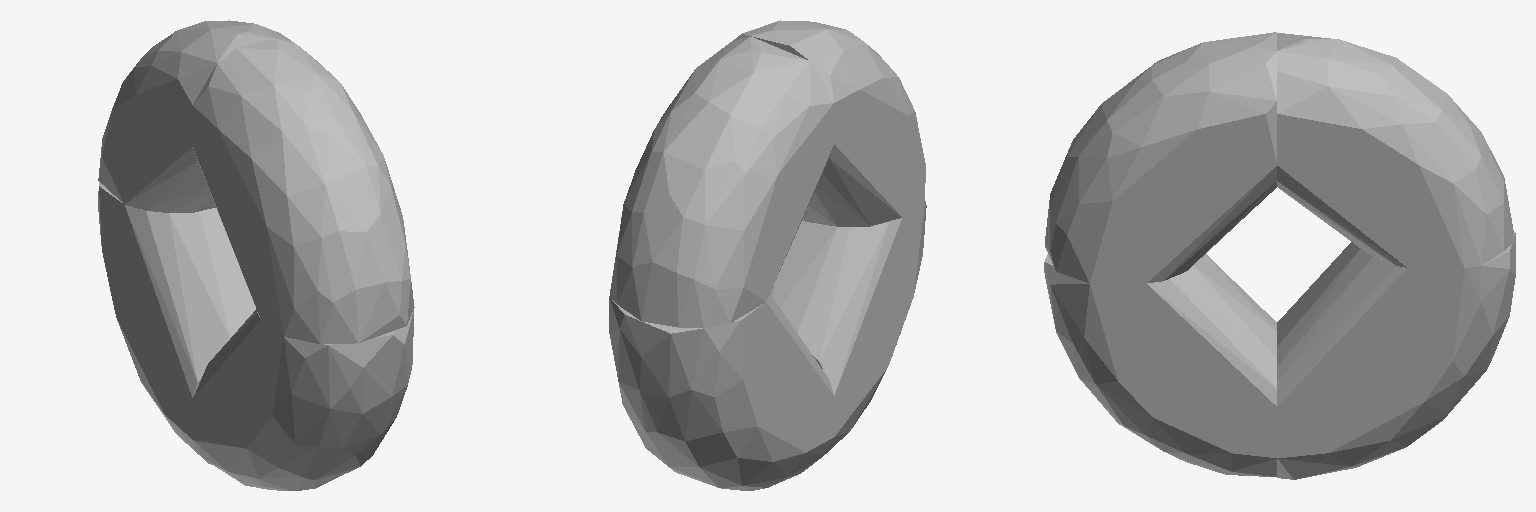
robot.urdf — root:
<robot name="root">
  <link name="link_d3e72efaaf368f01b9a3aabe35ae3de8_convex_piece_0">
    <inertial>
      <origin rpy="0 0 0" xyz="0 0 0"/>
      <mass value="3.64E-06"/>
      <inertia ixx="9.71E-10" ixy="2.06E-12" ixz="1.72E-12" iyy="5.29E-10" iyz="3.13E-10" izz="5.46E-10"/>
    </inertial>
    <visual>
      <origin rpy="0 0 0" xyz="0 0 0"/>
      <geometry>
        <mesh filename="d3e72efaaf368f01b9a3aabe35ae3de8_convex_piece_0.obj" scale="1.0000E+00"/>
      </geometry>
      <material name="">
        <color rgba="7.50E-01 7.50E-01 7.50E-01 1"/>
      </material>
    </visual>
    <collision>
      <origin rpy="0 0 0" xyz="0 0 0"/>
      <geometry>
        <mesh filename="d3e72efaaf368f01b9a3aabe35ae3de8_convex_piece_0.obj" scale="1.0000E+00"/>
      </geometry>
    </collision>
  </link>
  <link name="link_d3e72efaaf368f01b9a3aabe35ae3de8_convex_piece_1">
    <inertial>
      <origin rpy="0 0 0" xyz="0 0 0"/>
      <mass value="3.54E-06"/>
      <inertia ixx="9.52E-10" ixy="2.12E-12" ixz="-2.07E-12" iyy="5.27E-10" iyz="-3.12E-10" izz="5.26E-10"/>
    </inertial>
    <visual>
      <origin rpy="0 0 0" xyz="0 0 0"/>
      <geometry>
        <mesh filename="d3e72efaaf368f01b9a3aabe35ae3de8_convex_piece_1.obj" scale="1.0000E+00"/>
      </geometry>
      <material name="">
        <color rgba="7.50E-01 7.50E-01 7.50E-01 1"/>
      </material>
    </visual>
    <collision>
      <origin rpy="0 0 0" xyz="0 0 0"/>
      <geometry>
        <mesh filename="d3e72efaaf368f01b9a3aabe35ae3de8_convex_piece_1.obj" scale="1.0000E+00"/>
      </geometry>
    </collision>
  </link>
  <joint name="link_d3e72efaaf368f01b9a3aabe35ae3de8_convex_piece_1_joint" type="fixed">
    <origin rpy="0 0 0" xyz="0 0 0"/>
    <parent link="link_d3e72efaaf368f01b9a3aabe35ae3de8_convex_piece_0"/>
    <child link="link_d3e72efaaf368f01b9a3aabe35ae3de8_convex_piece_1"/>
  </joint>
  <link name="link_d3e72efaaf368f01b9a3aabe35ae3de8_convex_piece_2">
    <inertial>
      <origin rpy="0 0 0" xyz="0 0 0"/>
      <mass value="4.06E-06"/>
      <inertia ixx="1.05E-09" ixy="-2.79E-12" ixz="2.65E-12" iyy="5.54E-10" iyz="-3.09E-10" izz="6.14E-10"/>
    </inertial>
    <visual>
      <origin rpy="0 0 0" xyz="0 0 0"/>
      <geometry>
        <mesh filename="d3e72efaaf368f01b9a3aabe35ae3de8_convex_piece_2.obj" scale="1.0000E+00"/>
      </geometry>
      <material name="">
        <color rgba="7.50E-01 7.50E-01 7.50E-01 1"/>
      </material>
    </visual>
    <collision>
      <origin rpy="0 0 0" xyz="0 0 0"/>
      <geometry>
        <mesh filename="d3e72efaaf368f01b9a3aabe35ae3de8_convex_piece_2.obj" scale="1.0000E+00"/>
      </geometry>
    </collision>
  </link>
  <joint name="link_d3e72efaaf368f01b9a3aabe35ae3de8_convex_piece_2_joint" type="fixed">
    <origin rpy="0 0 0" xyz="0 0 0"/>
    <parent link="link_d3e72efaaf368f01b9a3aabe35ae3de8_convex_piece_1"/>
    <child link="link_d3e72efaaf368f01b9a3aabe35ae3de8_convex_piece_2"/>
  </joint>
  <link name="link_d3e72efaaf368f01b9a3aabe35ae3de8_convex_piece_3">
    <inertial>
      <origin rpy="0 0 0" xyz="0 0 0"/>
      <mass value="3.33E-06"/>
      <inertia ixx="9.09E-10" ixy="-1.72E-12" ixz="-2.00E-12" iyy="5.40E-10" iyz="3.07E-10" izz="4.64E-10"/>
    </inertial>
    <visual>
      <origin rpy="0 0 0" xyz="0 0 0"/>
      <geometry>
        <mesh filename="d3e72efaaf368f01b9a3aabe35ae3de8_convex_piece_3.obj" scale="1.0000E+00"/>
      </geometry>
      <material name="">
        <color rgba="7.50E-01 7.50E-01 7.50E-01 1"/>
      </material>
    </visual>
    <collision>
      <origin rpy="0 0 0" xyz="0 0 0"/>
      <geometry>
        <mesh filename="d3e72efaaf368f01b9a3aabe35ae3de8_convex_piece_3.obj" scale="1.0000E+00"/>
      </geometry>
    </collision>
  </link>
  <joint name="link_d3e72efaaf368f01b9a3aabe35ae3de8_convex_piece_3_joint" type="fixed">
    <origin rpy="0 0 0" xyz="0 0 0"/>
    <parent link="link_d3e72efaaf368f01b9a3aabe35ae3de8_convex_piece_2"/>
    <child link="link_d3e72efaaf368f01b9a3aabe35ae3de8_convex_piece_3"/>
  </joint>
</robot>

--- Render facts (derived) ---
Views: 3 orthographic renders of the robot side by side, from view 1: azimuth 30°, elevation 25°; view 2: azimuth 150°, elevation 25°; view 3: azimuth 270°, elevation 25°.
Model root with 4 links and 3 joints (3 fixed), rooted at link_d3e72efaaf368f01b9a3aabe35ae3de8_convex_piece_0, posed every joint at zero.
Links seen in each view (by area): view 1: link_d3e72efaaf368f01b9a3aabe35ae3de8_convex_piece_1, link_d3e72efaaf368f01b9a3aabe35ae3de8_convex_piece_0, link_d3e72efaaf368f01b9a3aabe35ae3de8_convex_piece_2, link_d3e72efaaf368f01b9a3aabe35ae3de8_convex_piece_3; view 2: link_d3e72efaaf368f01b9a3aabe35ae3de8_convex_piece_3, link_d3e72efaaf368f01b9a3aabe35ae3de8_convex_piece_2, link_d3e72efaaf368f01b9a3aabe35ae3de8_convex_piece_0, link_d3e72efaaf368f01b9a3aabe35ae3de8_convex_piece_1; view 3: link_d3e72efaaf368f01b9a3aabe35ae3de8_convex_piece_1, link_d3e72efaaf368f01b9a3aabe35ae3de8_convex_piece_3, link_d3e72efaaf368f01b9a3aabe35ae3de8_convex_piece_2, link_d3e72efaaf368f01b9a3aabe35ae3de8_convex_piece_0.
Link boxes in pixels (x1,y1,x2,y2): link_d3e72efaaf368f01b9a3aabe35ae3de8_convex_piece_1: (193,39,414,343); link_d3e72efaaf368f01b9a3aabe35ae3de8_convex_piece_0: (193,309,413,490); link_d3e72efaaf368f01b9a3aabe35ae3de8_convex_piece_2: (98,183,255,464); link_d3e72efaaf368f01b9a3aabe35ae3de8_convex_piece_3: (98,20,294,212); link_d3e72efaaf368f01b9a3aabe35ae3de8_convex_piece_3: (609,36,833,327); link_d3e72efaaf368f01b9a3aabe35ae3de8_convex_piece_2: (609,294,833,490); link_d3e72efaaf368f01b9a3aabe35ae3de8_convex_piece_0: (770,201,926,453); link_d3e72efaaf368f01b9a3aabe35ae3de8_convex_piece_1: (733,20,925,226); link_d3e72efaaf368f01b9a3aabe35ae3de8_convex_piece_1: (1045,32,1276,283); link_d3e72efaaf368f01b9a3aabe35ae3de8_convex_piece_3: (1277,33,1514,267); link_d3e72efaaf368f01b9a3aabe35ae3de8_convex_piece_2: (1277,232,1515,479); link_d3e72efaaf368f01b9a3aabe35ae3de8_convex_piece_0: (1044,254,1276,476).
Bounding box of the posed robot: 0.0143 × 0.0455 × 0.0455 m (x, y, z).
4 mesh visuals loaded from 4 distinct referenced files (4 OBJ).